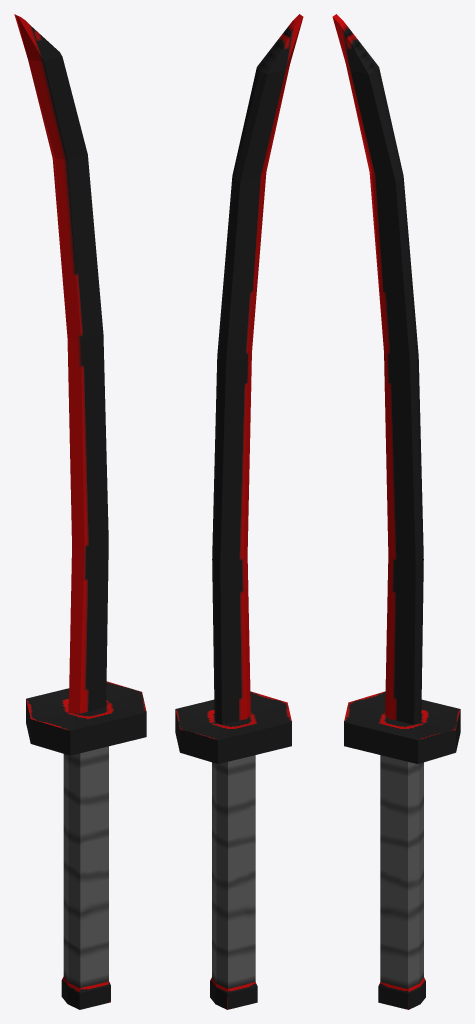
Rendered from Katana.fbx.
3 views of the same model, side by side, from view 1: azimuth 30°, elevation 25°; view 2: azimuth 210°, elevation 25°; view 3: azimuth 330°, elevation 25° (orthographic). The views are drawn at different scales.
Parts seen in each view (by area): view 1: Cube; view 2: Cube; view 3: Cube.
Part boxes in pixels (x1,y1,x2,y2): Cube: (14, 14, 146, 1009); Cube: (175, 14, 303, 1009); Cube: (332, 14, 460, 1009).
Size of the model in its own units: 605 by 4617 by 368.
1 material, 1 textured.
